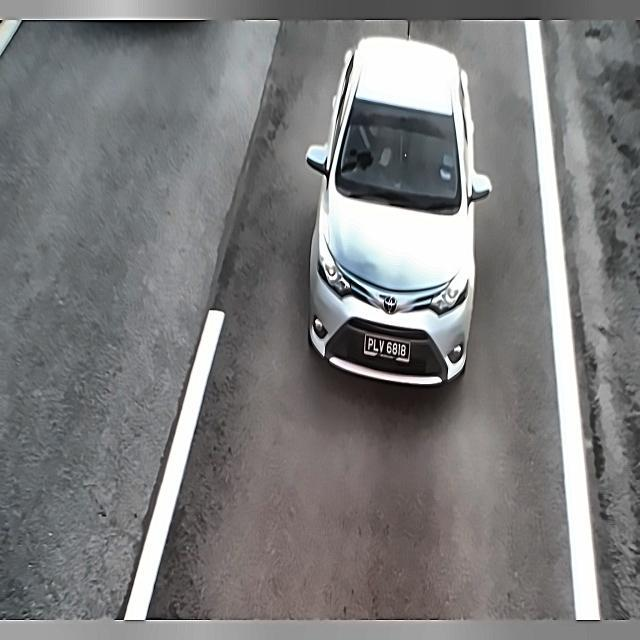car: (363, 330, 413, 366)
